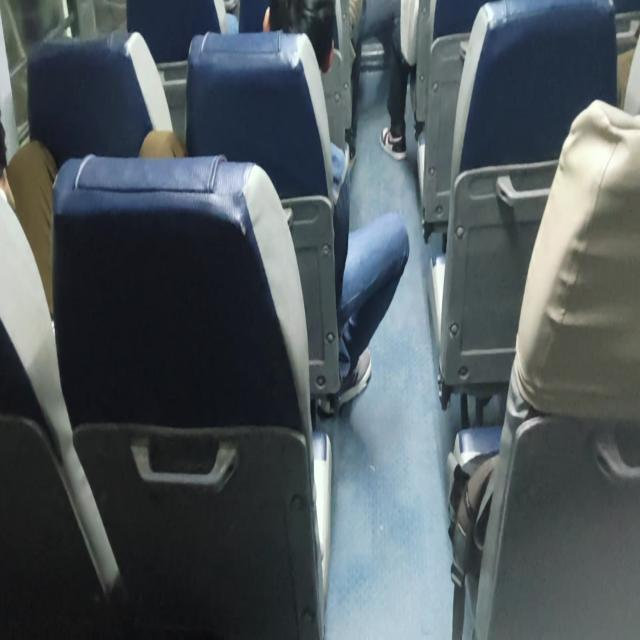person: (263, 0, 336, 80)
